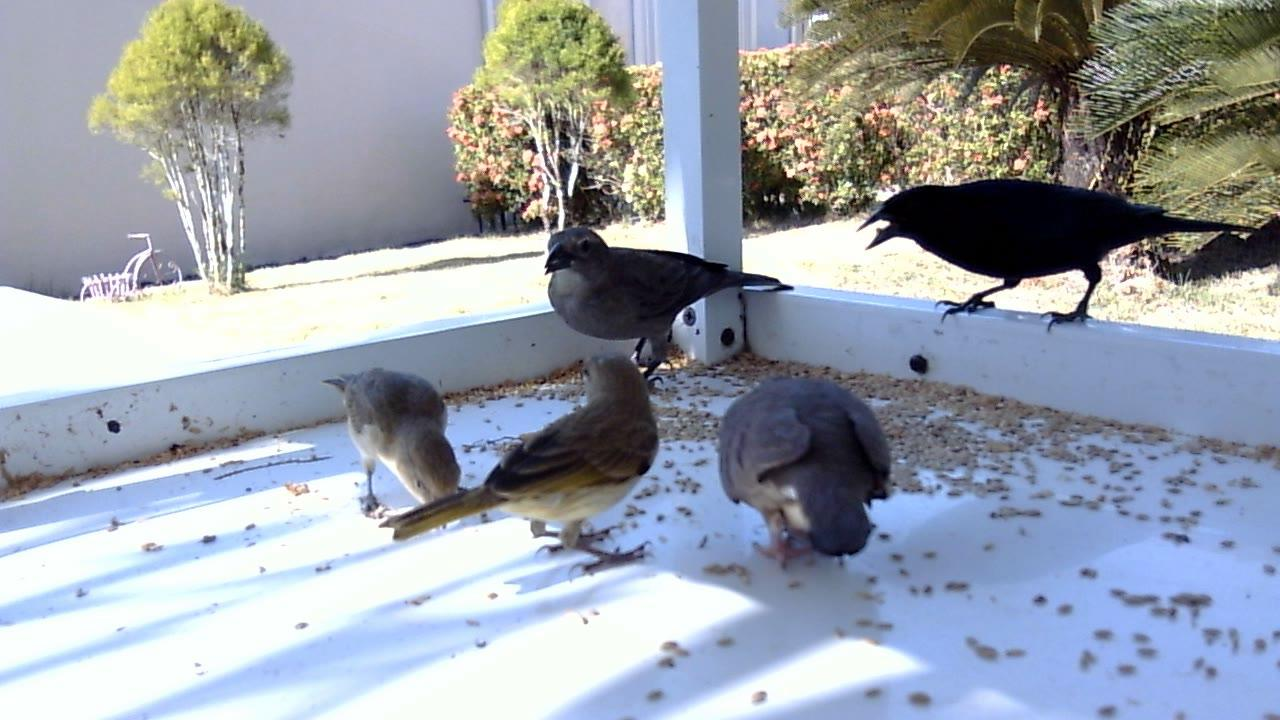canario_do_amazonas: (378, 352, 665, 586), (321, 366, 463, 515)
chupim: (854, 177, 1187, 336), (544, 226, 796, 393)
rolinha: (717, 375, 894, 575)
